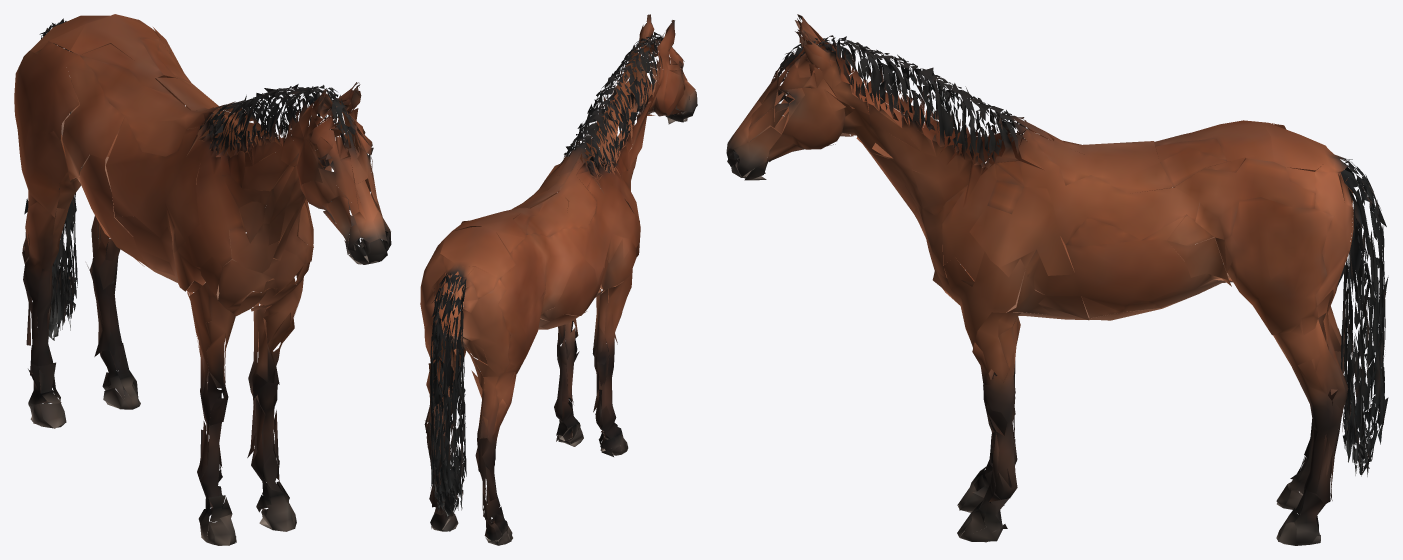
File: horse.glb
The picture shows the model from 3 angles, left to right: view 1: azimuth 30°, elevation 25°; view 2: azimuth 150°, elevation 25°; view 3: azimuth 270°, elevation 25°; orthographic projection. The views are drawn at different scales.
Parts seen in each view (by area): view 1: LO.001; view 2: LO.001; view 3: LO.001.
Boxes of the visible parts, x1,y1,x2,y2 form: LO.001: (14,14,391,545); LO.001: (420,14,697,545); LO.001: (726,14,1388,545).
Bounding box in the file's own units: 0.4649 × 1.6 × 1.91.
1 material, 1 textured.
